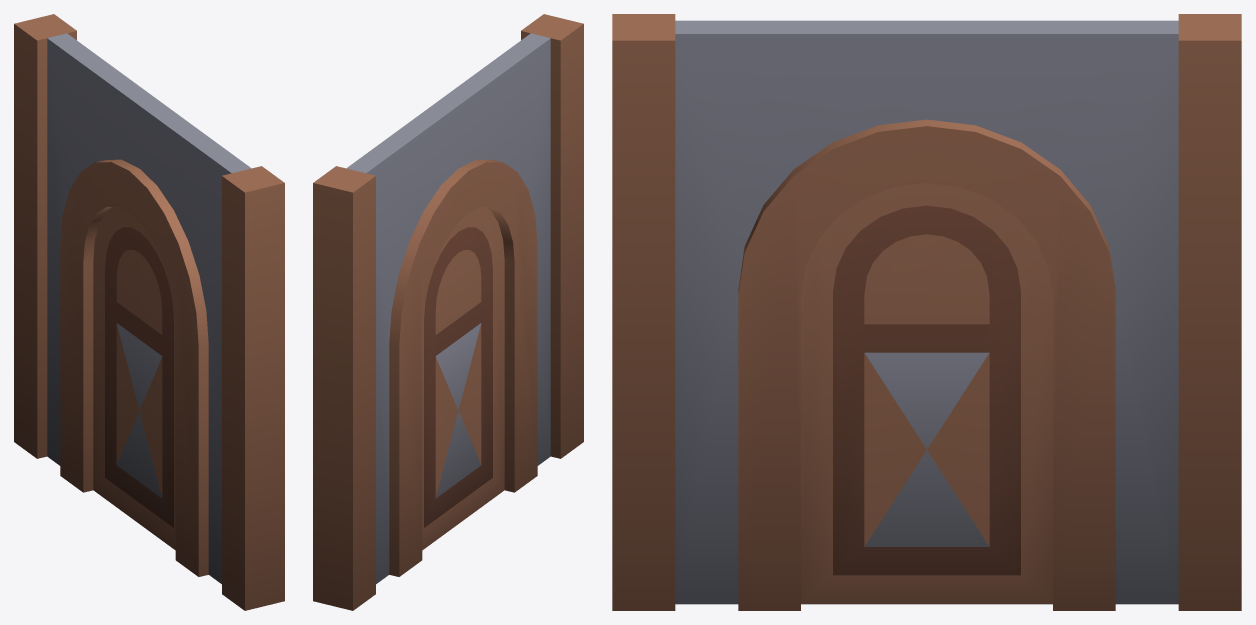
File: wall-door.glb
3 views of the same model, side by side, from view 1: azimuth 30°, elevation 25°; view 2: azimuth 150°, elevation 25°; view 3: azimuth 270°, elevation 25° (orthographic). The views are drawn at different scales.
Parts seen in each view (by area): view 1: wall-door; view 2: wall-door; view 3: wall-door.
Part boxes in pixels (<box>): wall-door: <box>14,14,284,610</box>; wall-door: <box>313,14,583,610</box>; wall-door: <box>612,14,1241,610</box>.
Size of the model in its own units: 0.2999 by 3 by 3.
